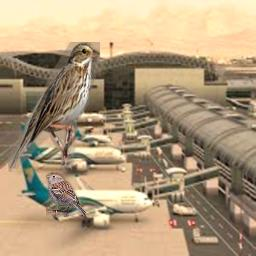Sparrow: (8, 42, 100, 172), (46, 172, 86, 217)
